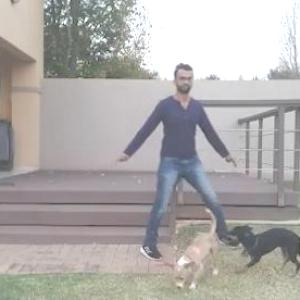land: (111, 78, 223, 262)
